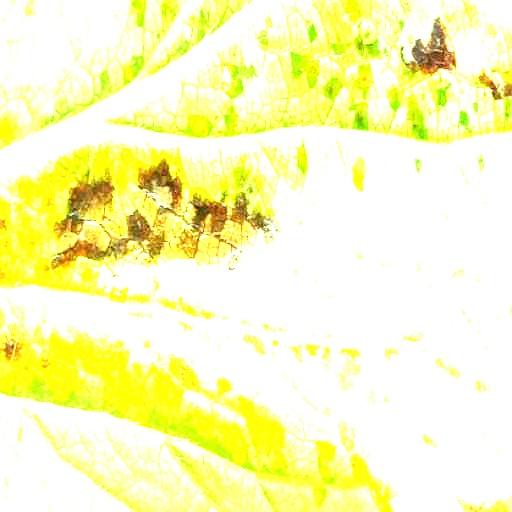Angular Leafspot: (0, 0, 511, 511)
